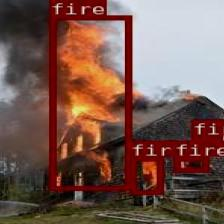fire: (48, 15, 130, 190), (128, 156, 162, 194), (190, 119, 220, 139), (173, 156, 208, 171)
